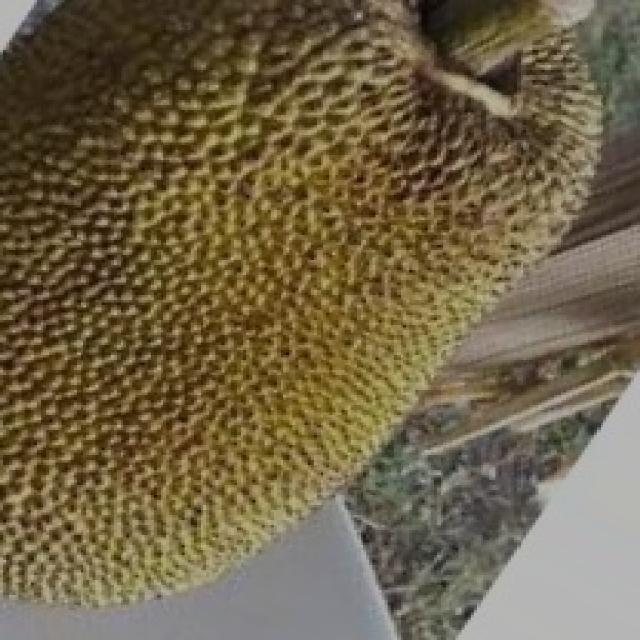Fruit: (0, 250, 403, 638), (0, 0, 409, 358), (264, 0, 640, 362)
